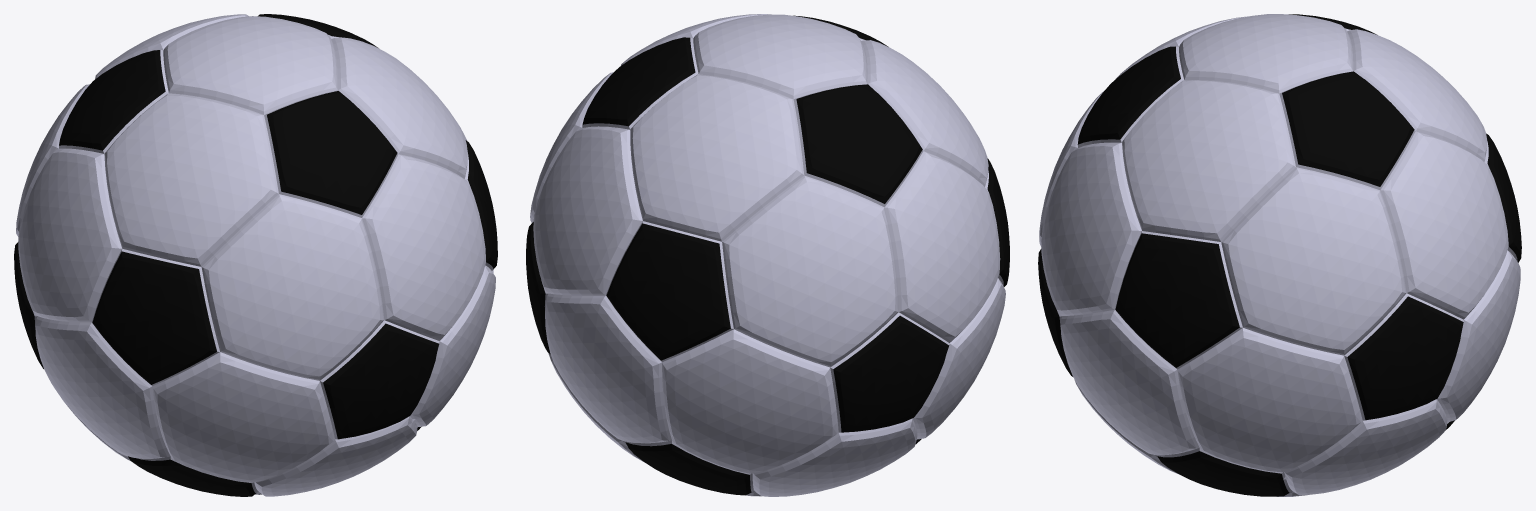
Rendered from ballonFoot.obj.
The picture shows the model from 3 angles, left to right: view 1: azimuth 30°, elevation 25°; view 2: azimuth 150°, elevation 25°; view 3: azimuth 270°, elevation 25°; orthographic projection.
Visible parts, largest first — view 1: Icosphere; view 2: Icosphere; view 3: Icosphere.
Boxes of the visible parts, x1,y1,x2,y2 form: Icosphere: (14,14,497,496); Icosphere: (526,14,1009,496); Icosphere: (1038,14,1521,496).
Size of the model in its own units: 22 by 21.98 by 21.99.
